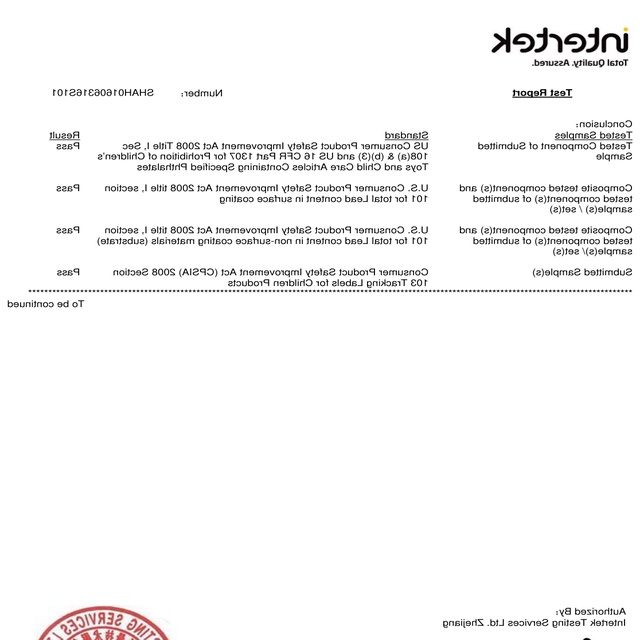intertek: (487, 23, 637, 56)
